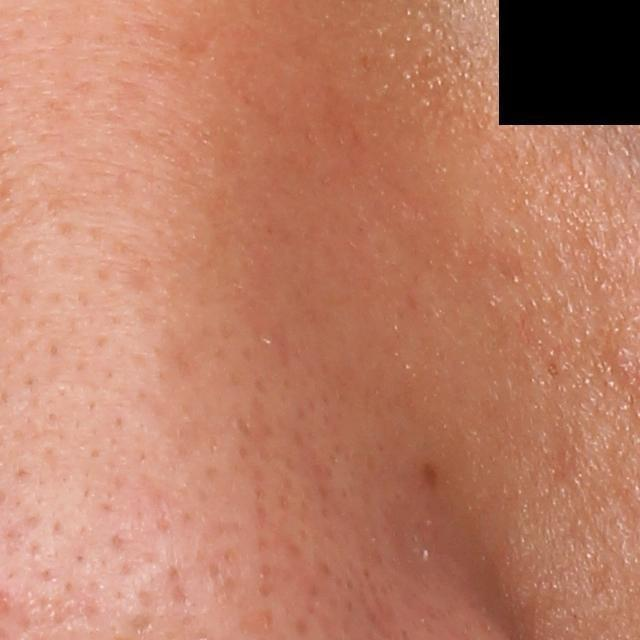nevus: (419, 460, 444, 481)
